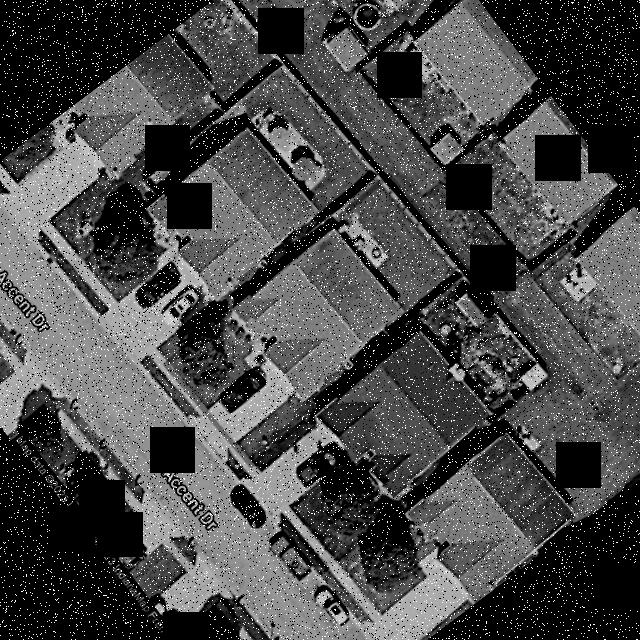Driveway: (206, 359, 295, 444)
Extra Driveway: (186, 416, 228, 465)
Extra Lawn: (153, 370, 198, 417), (225, 451, 246, 479)
Extra Sidewalk: (161, 364, 208, 418), (228, 445, 250, 473)
House: (235, 229, 403, 399)
Other: (339, 214, 388, 269)
Sidewalk: (232, 310, 266, 368)
